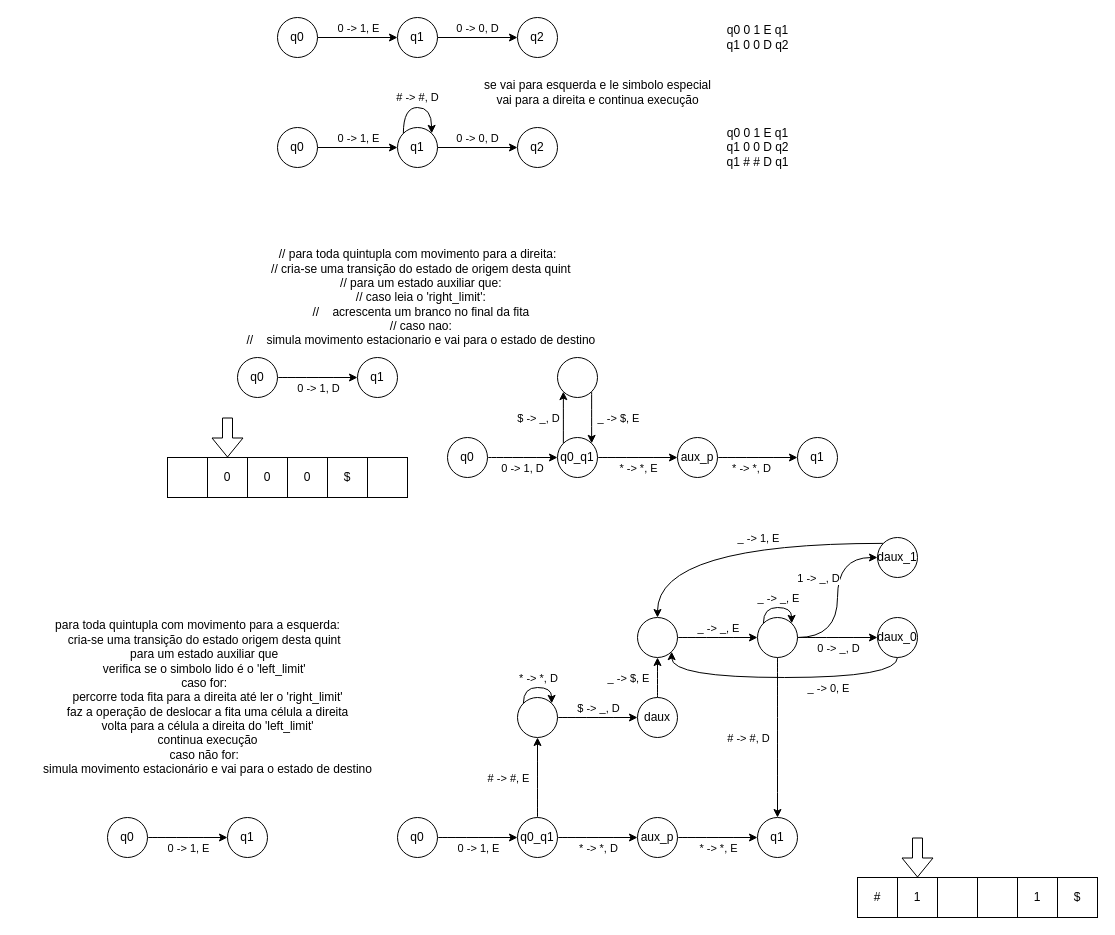
The diagram is 1115 pixels wide and 935 high, and some of its shapes have lost their labels. The box of each missing label's shape, as (x1, y1, x2, y2) in pixels:
daux0: (636, 616, 678, 658)
daux1: (756, 616, 798, 658)
desloc: (516, 696, 558, 738)
push: (556, 356, 598, 398)
